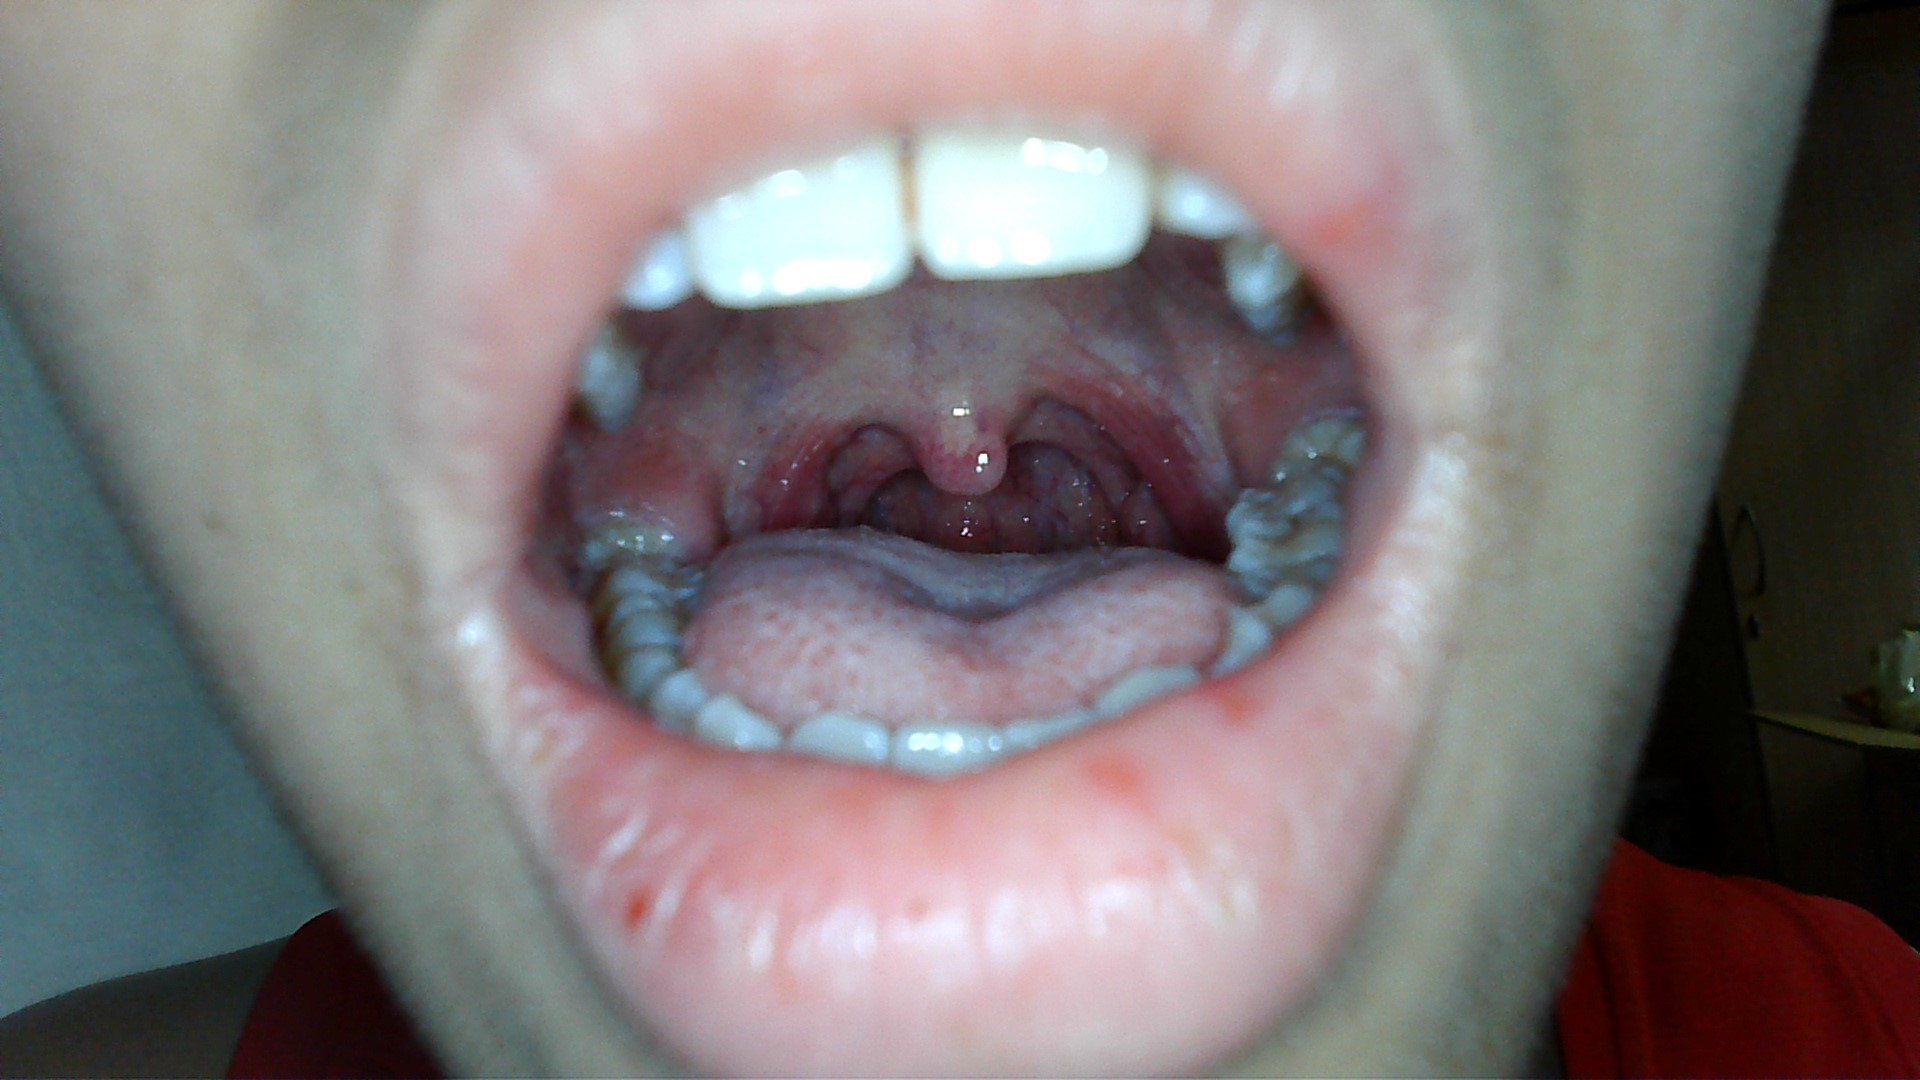throat: (1062, 364, 1211, 541), (746, 404, 874, 527)
